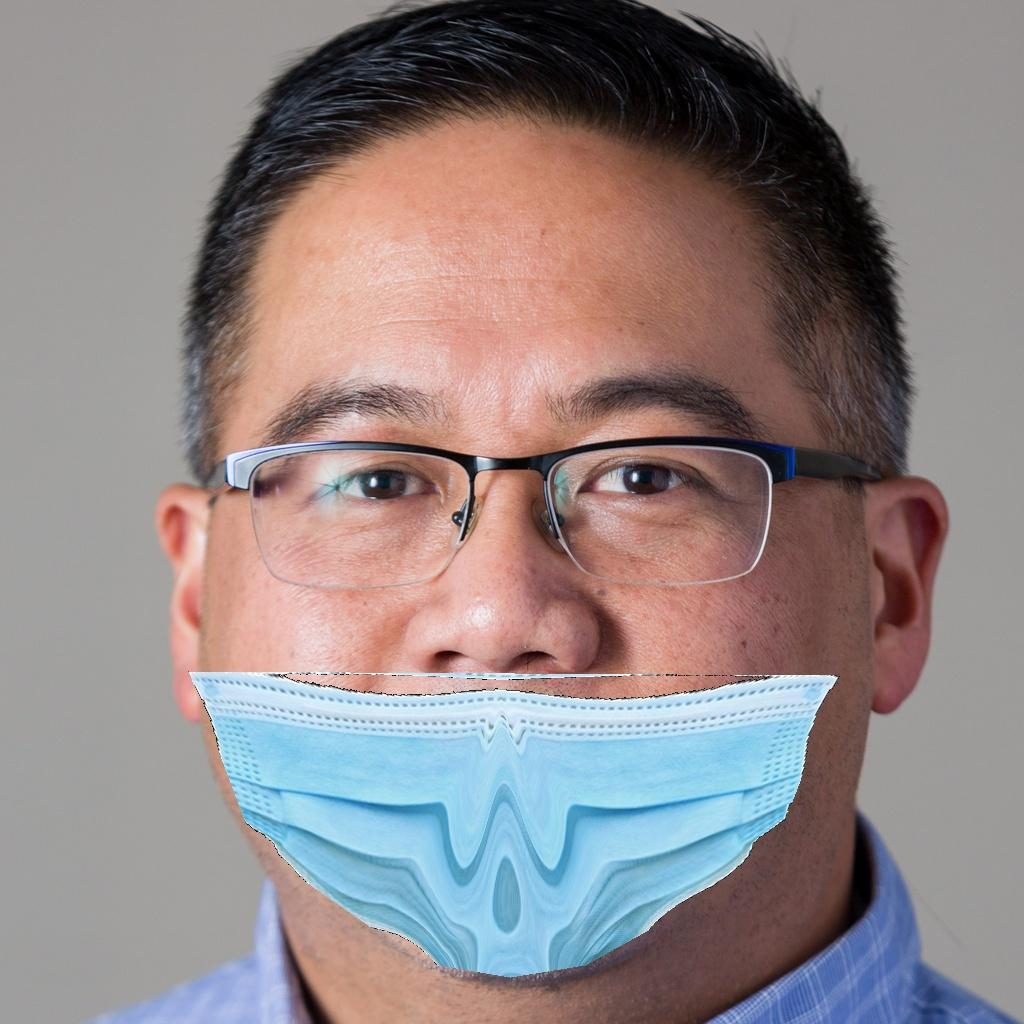Máscara Incorreta: (201, 268, 860, 971)
